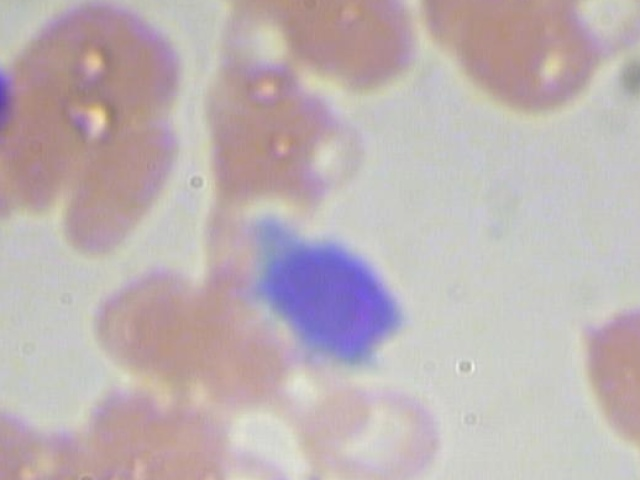WBC: (247, 212, 440, 379)
